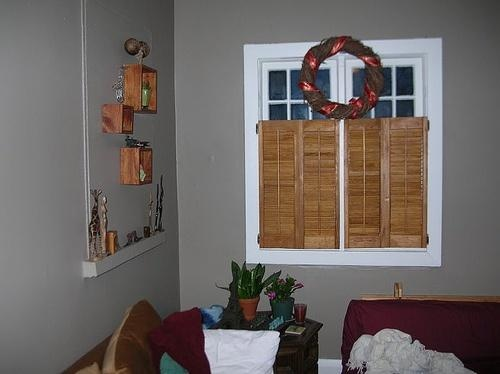pottedplant: (222, 261, 265, 316), (267, 276, 300, 323)
